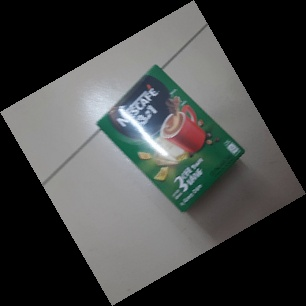Nes Rang: (96, 64, 247, 214)
